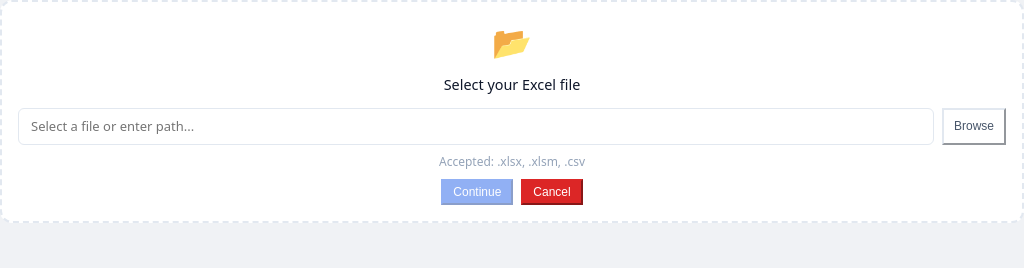
Test: FilePickerCard › clears error when valid file is entered after error
The image size is (1024, 268).
Type "test.pdf" into the field with placeholder "Select a file or enter path..." at (476, 126), box x1=18 y1=108 x2=934 y2=145
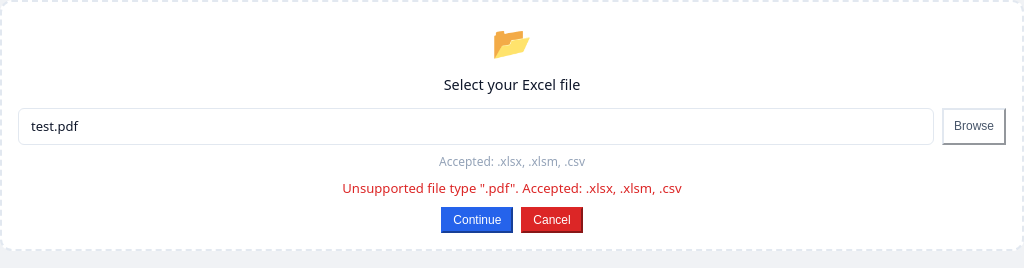
Result: the text "Unsupported file type \".pdf\". Accepted: .xlsx, .xlsm, .csv" is shown at x1=342 y1=179 x2=682 y2=197
Replace the text in the field with placeholder "Select a file or enter path..." with "test.xlsx" at (476, 126), box x1=18 y1=108 x2=934 y2=145
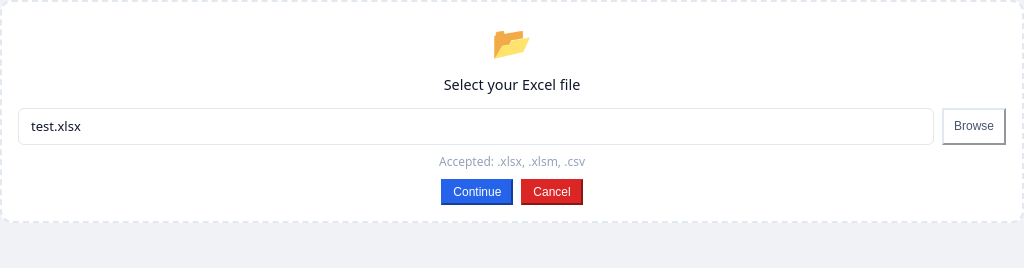
Result: the text "Unsupported" is gone
